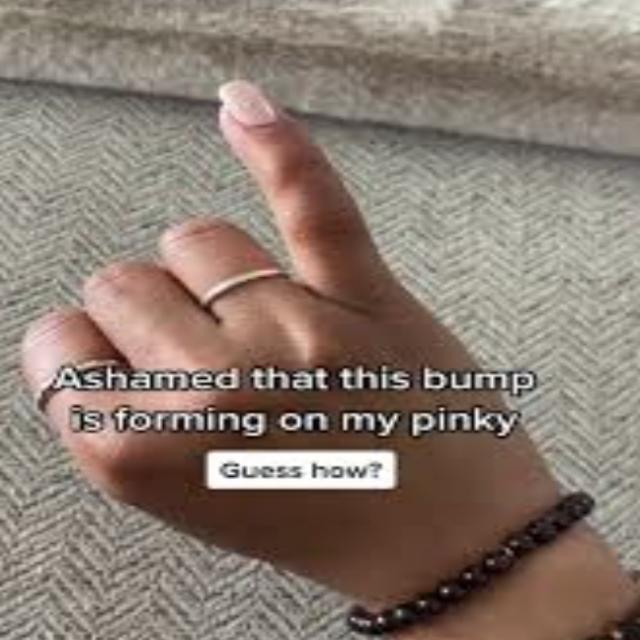pinky: (214, 55, 409, 314)
